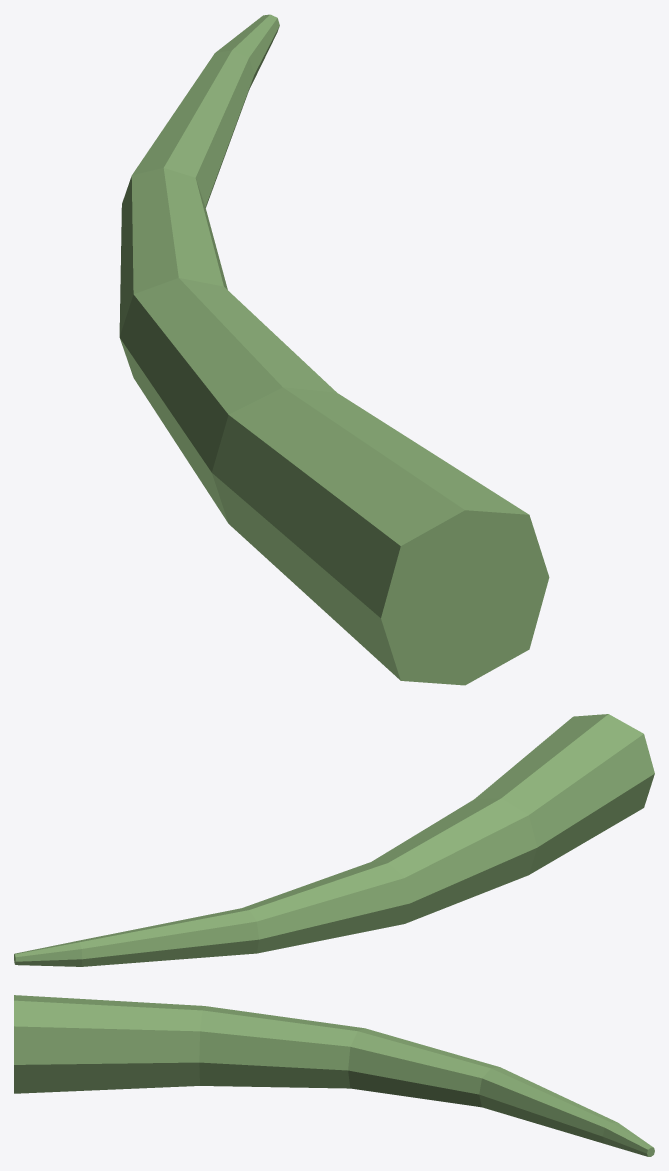
The model's file is Grass_PacificLake_001.fbx.
3 views of the same model, one above another, from view 1: azimuth 30°, elevation 25°; view 2: azimuth 150°, elevation 25°; view 3: azimuth 270°, elevation 25° (orthographic). The views are drawn at different scales.
Visible parts, largest first — view 1: Grass_001; view 2: Grass_001; view 3: Grass_001.
Part boxes in pixels (x1=…): Grass_001: x1=119, y1=14, x2=549, y2=685; Grass_001: x1=14, y1=714, x2=654, y2=966; Grass_001: x1=14, y1=995, x2=654, y2=1156.
Bounding box in the file's own units: 57.56 × 18.12 × 120.
